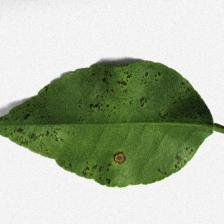canker: (12, 63, 156, 185)
